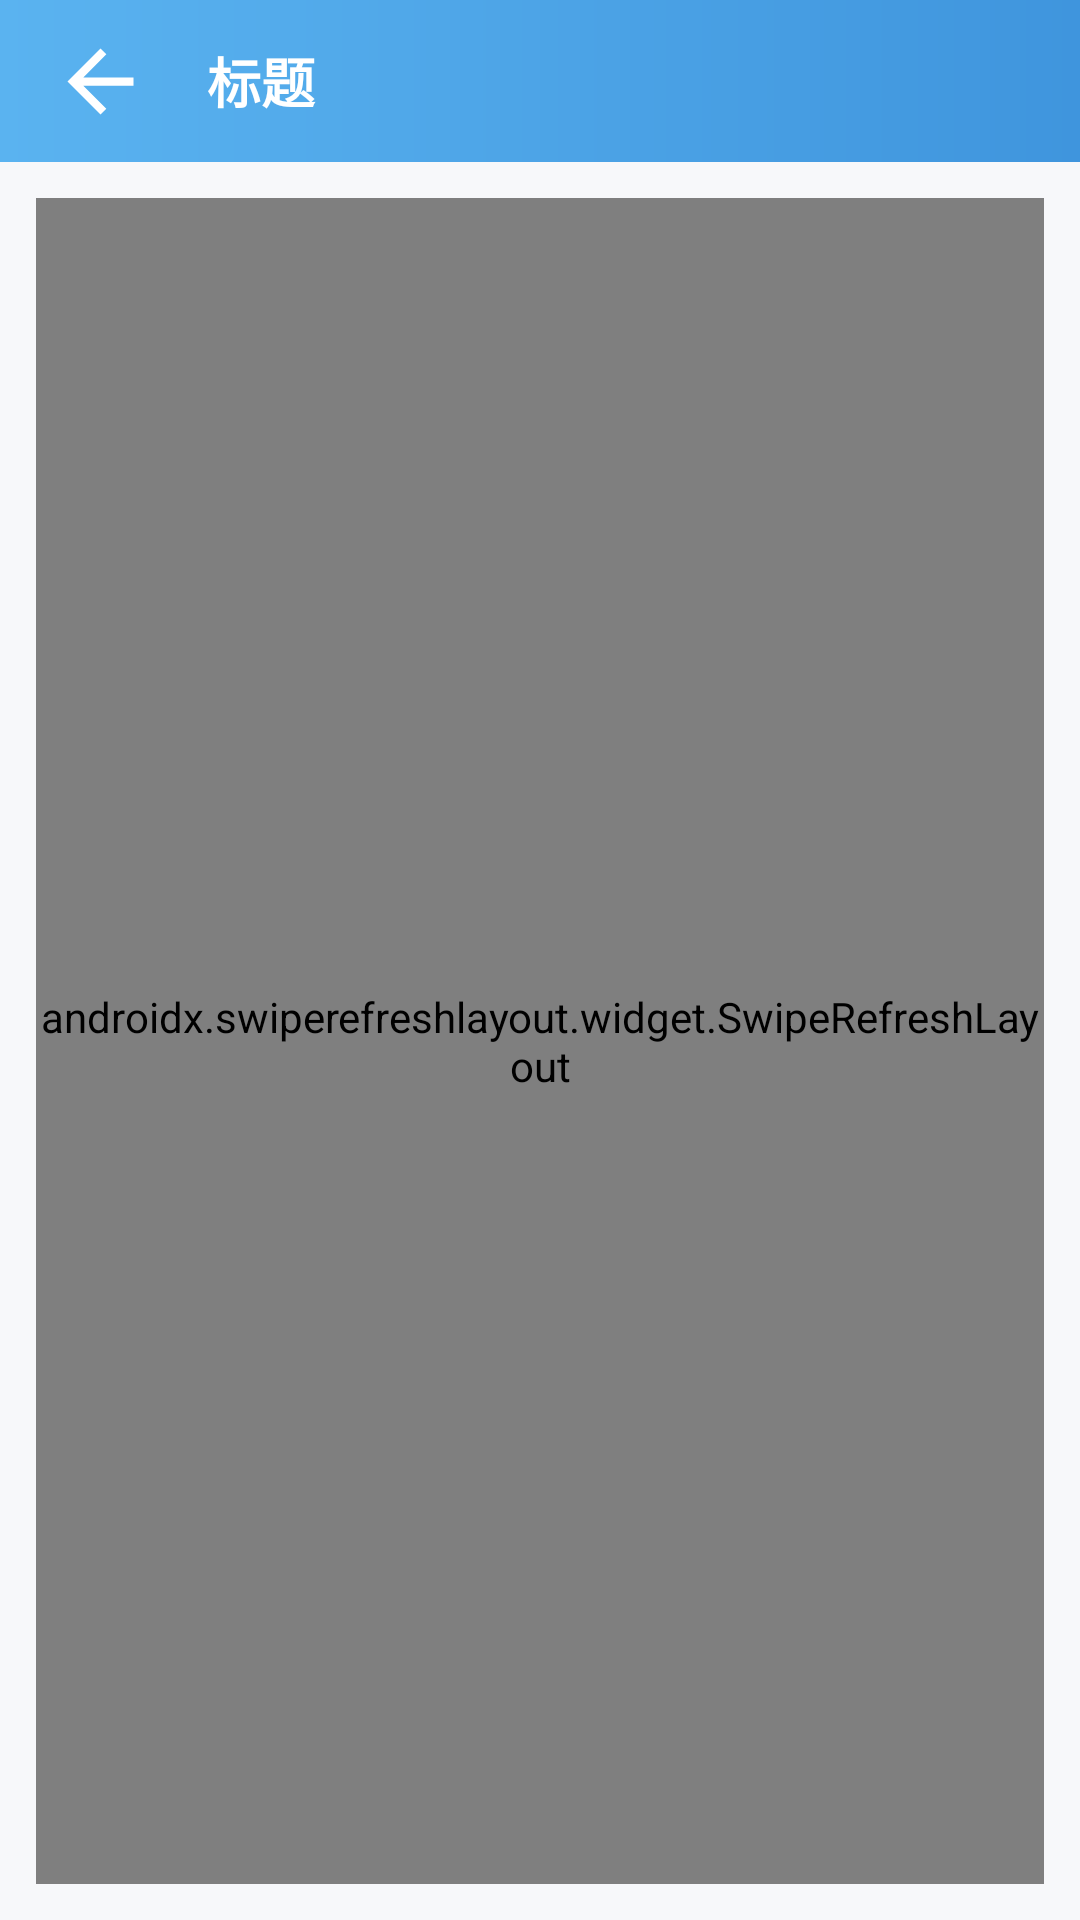

Screen size 1080x1920. Icon name, then its center in pixels as [x,y]:
返回: [100,81]
